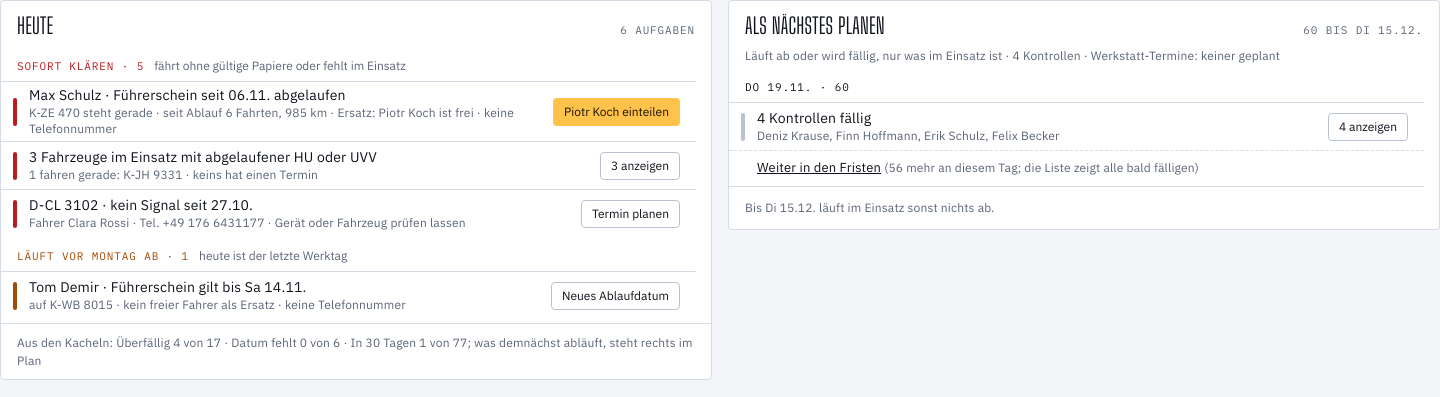
Scenario: Schicht: the plan › folds many of a kind on one day and points to the list when more exist than came along
Expected: the text "Deniz Krause, Finn Hoffmann, Erik Schulz, Felix Becker" is shown, [757,128,1060,143]
Click the button "4 anzeigen": (1368, 127) [1328,113,1408,141]
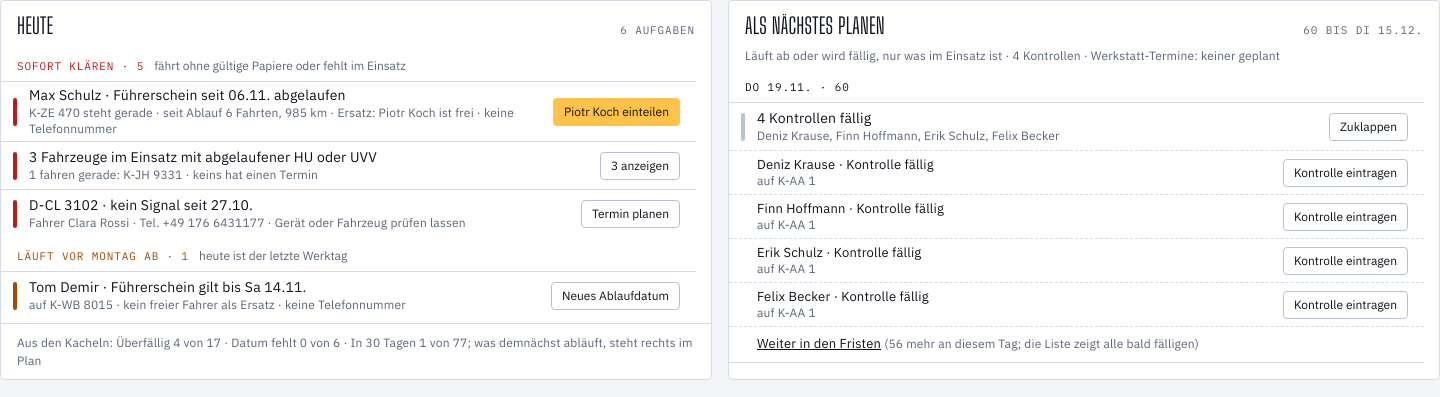
Expected: the text "(56 mehr an diesem Tag; die Liste zeigt alle bald fälligen)" is shown, [881,336,1199,351]
Now the link "Deniz Krause" is shown, box [729,150,1424,194]
